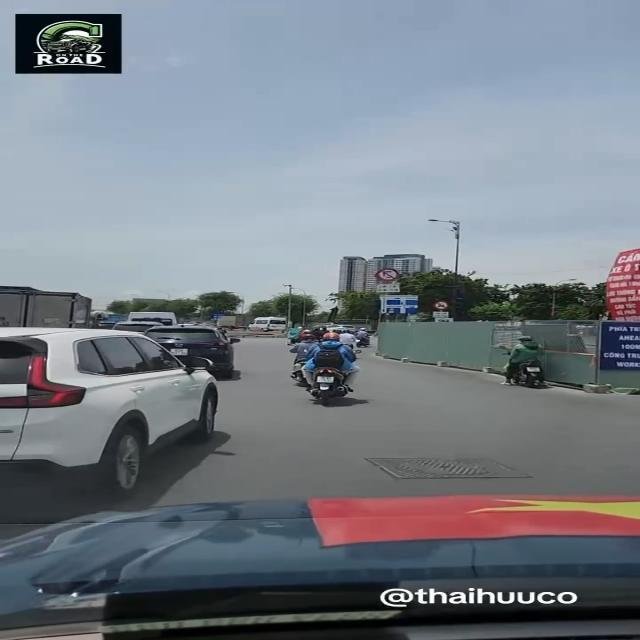103a-cam-oto: (435, 302, 449, 310)
123b-cam-re-phai: (375, 266, 399, 282)
